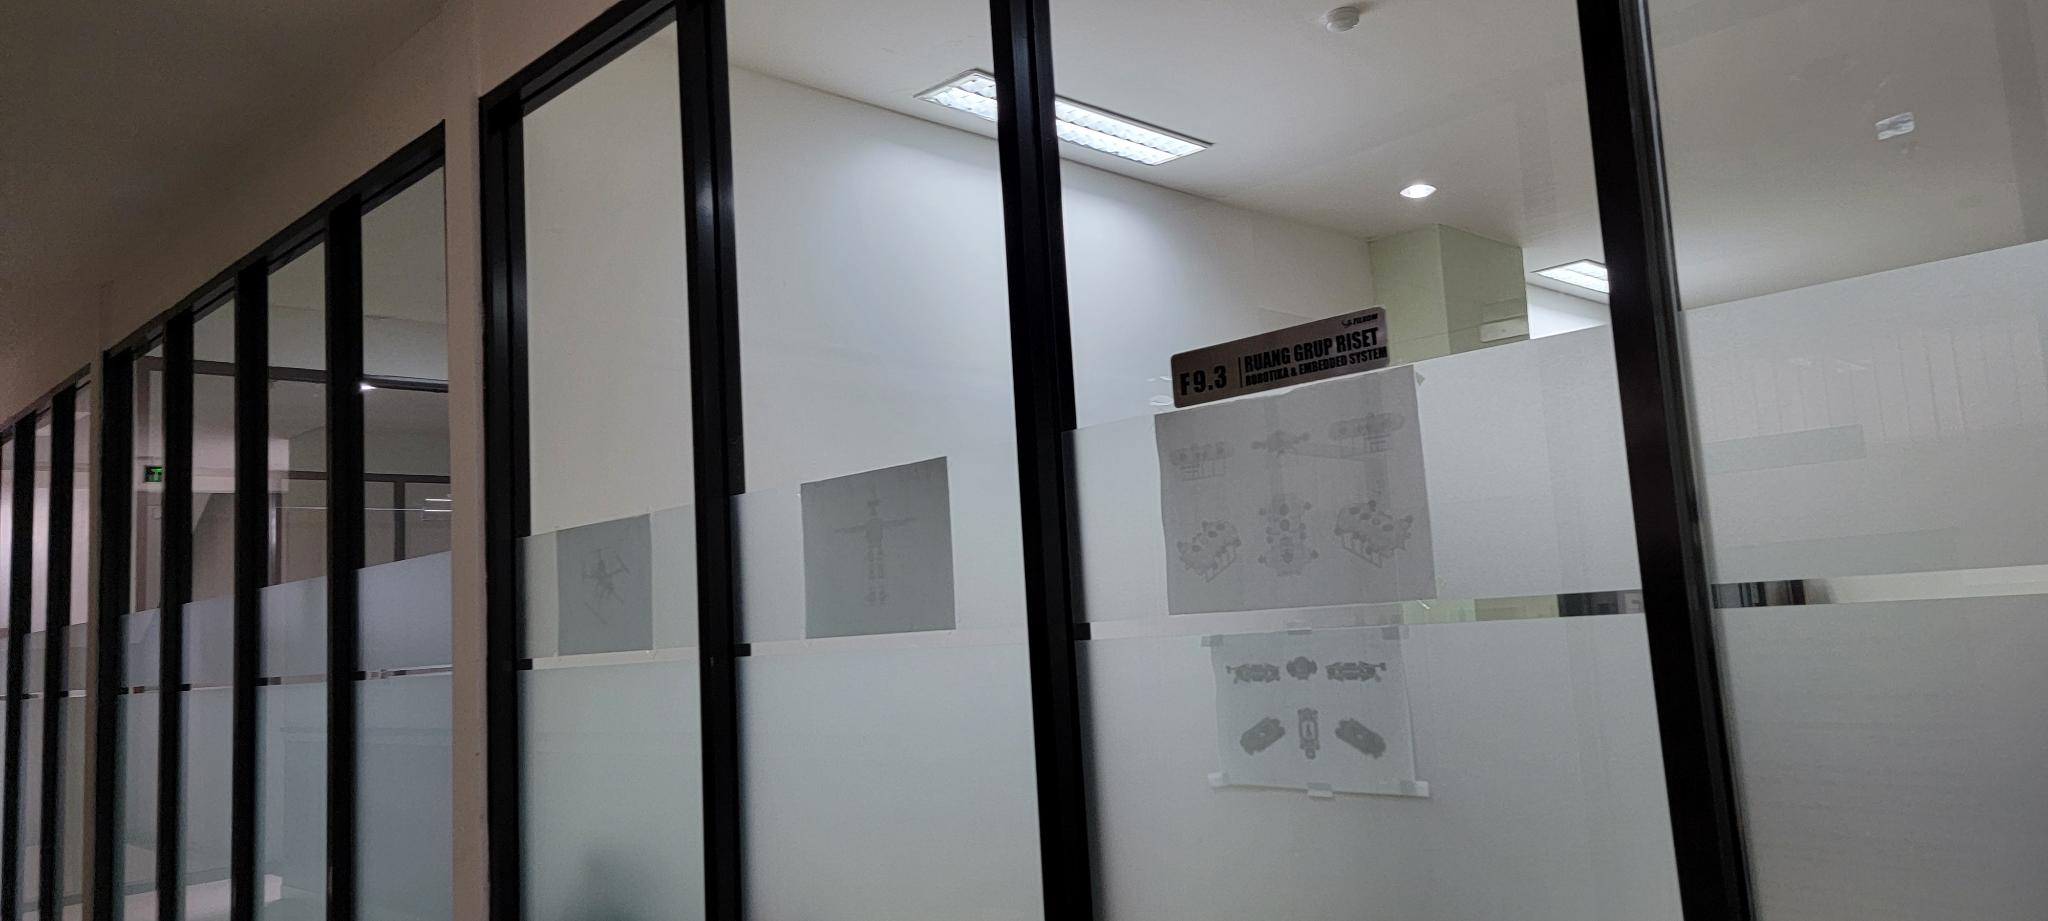plate: (1170, 307, 1391, 409)
